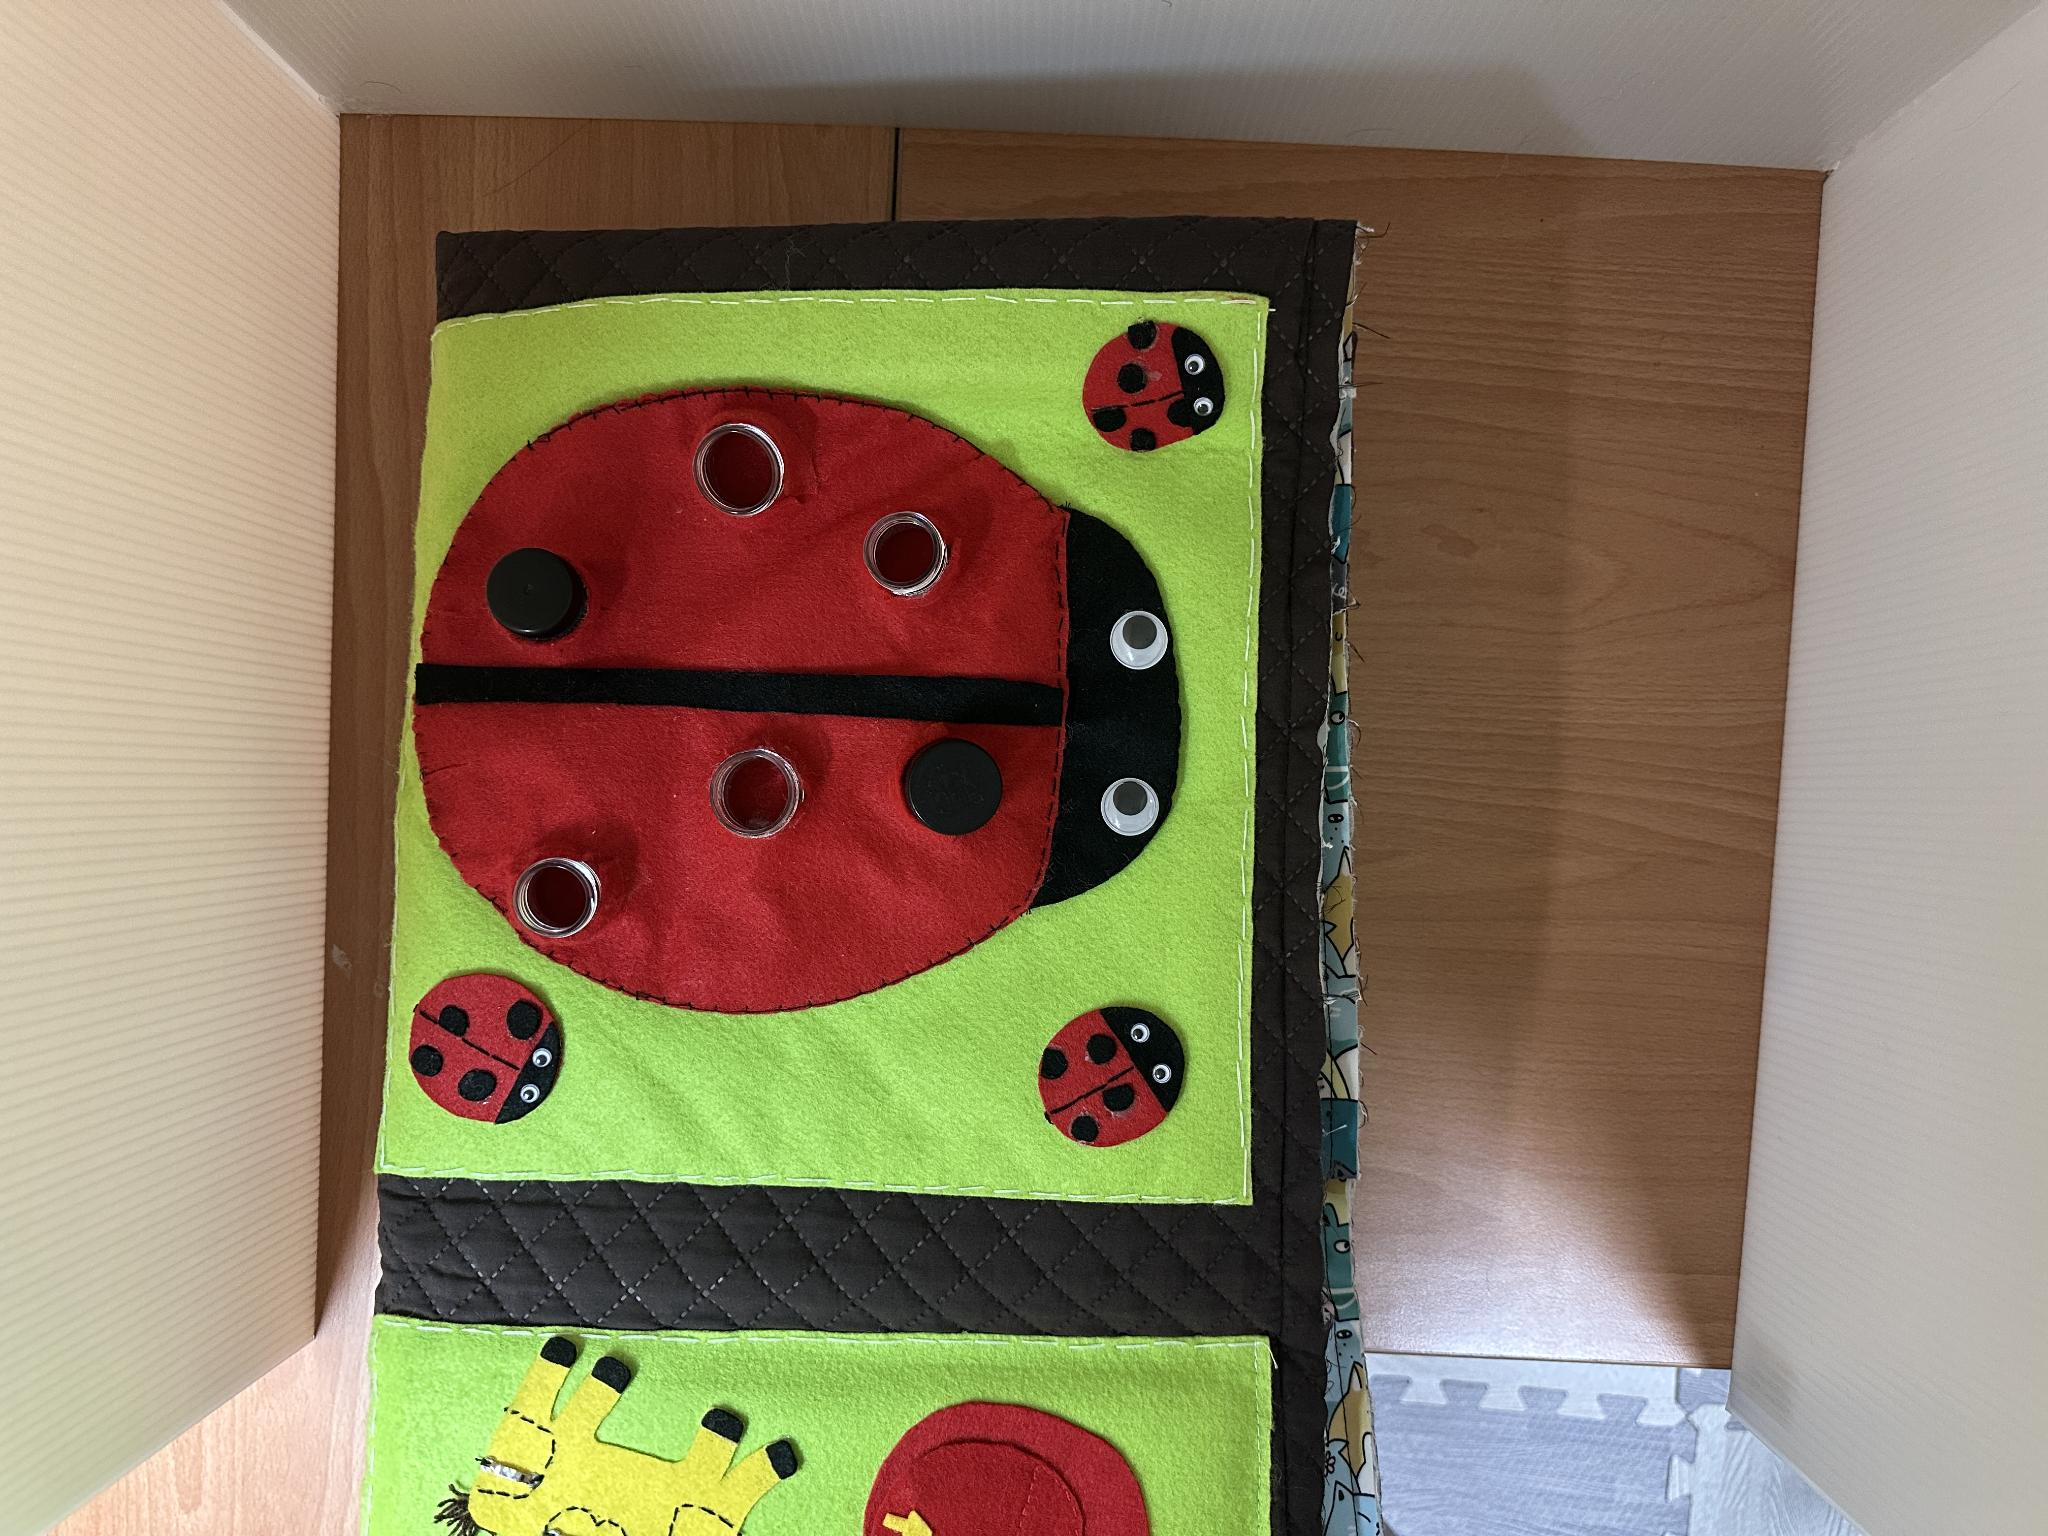cap_ok: (874, 715, 1021, 850), (452, 536, 616, 653)
